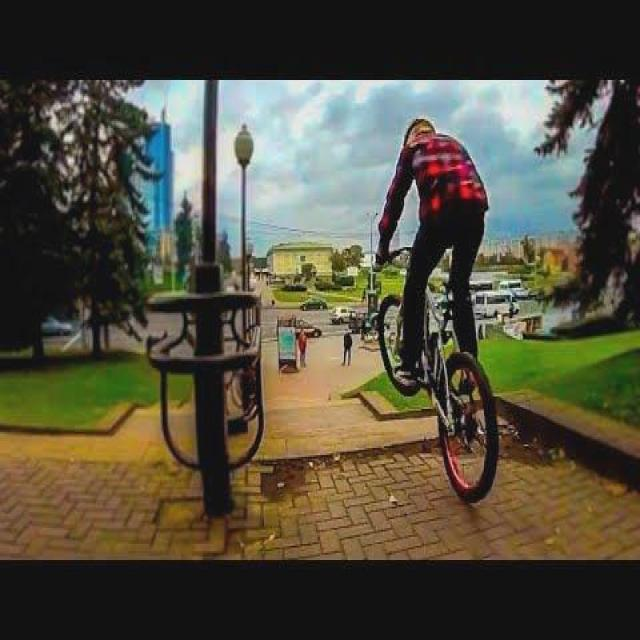bikerider: (355, 85, 549, 535)
